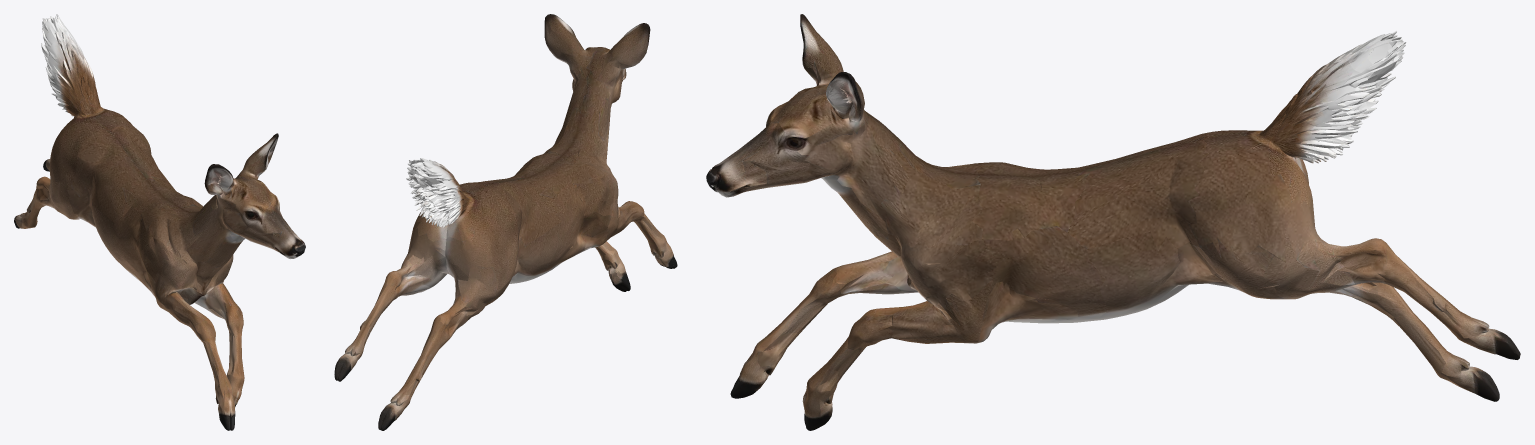
The model's file is deer.glb.
3 renders of one model, left to right at view 1: azimuth 30°, elevation 25°; view 2: azimuth 150°, elevation 25°; view 3: azimuth 270°, elevation 25°, orthographic. The views are drawn at different scales.
Visible parts, largest first — view 1: Mesh_0; view 2: Mesh_0; view 3: Mesh_0.
Part boxes in pixels (x1,y1,x2,y2): Mesh_0: [14, 14, 305, 430]; Mesh_0: [334, 14, 677, 430]; Mesh_0: [706, 14, 1520, 430].
Size of the model in its own units: 0.3992 by 1.04 by 1.9.
1 material, 1 textured.
